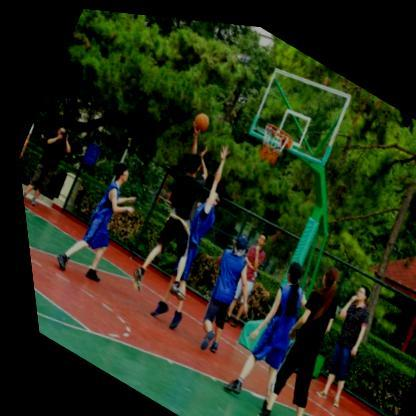basketball: (186, 105, 211, 133)
rim: (246, 114, 292, 165)
